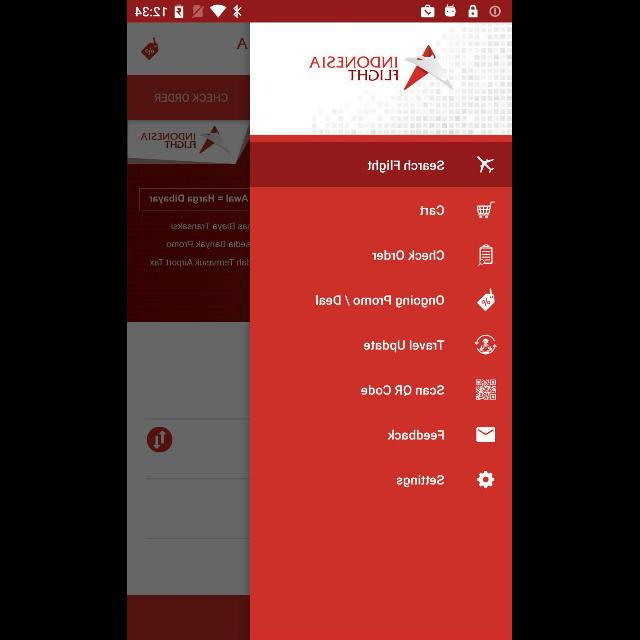icon: (477, 288, 495, 312), (478, 244, 494, 266), (477, 471, 495, 489), (476, 427, 496, 443), (477, 202, 495, 218)
image: (310, 44, 454, 92), (474, 335, 498, 355), (476, 380, 496, 400), (478, 155, 496, 173)
panel: (252, 22, 512, 640)
text: (316, 294, 446, 308), (361, 384, 445, 398), (364, 339, 446, 353), (368, 160, 446, 174), (373, 250, 445, 260), (388, 429, 446, 441), (397, 474, 445, 488), (420, 205, 446, 215)
uppertaskbar: (128, 1, 512, 23)
